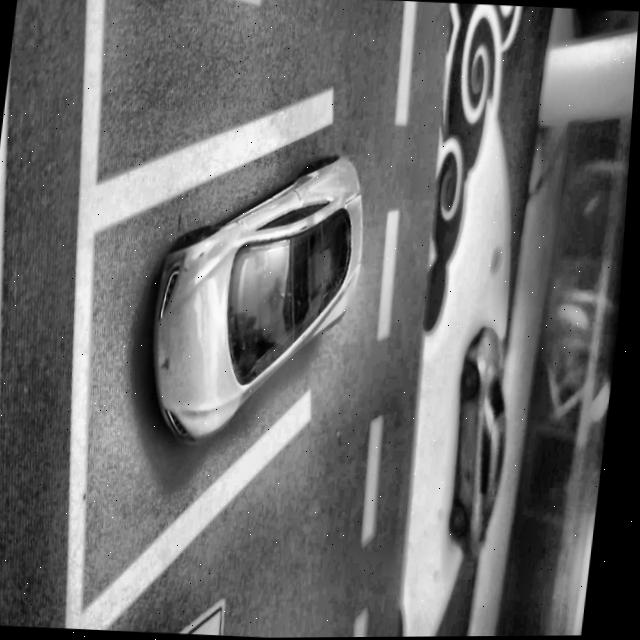car: (144, 148, 377, 455), (446, 323, 526, 560)
